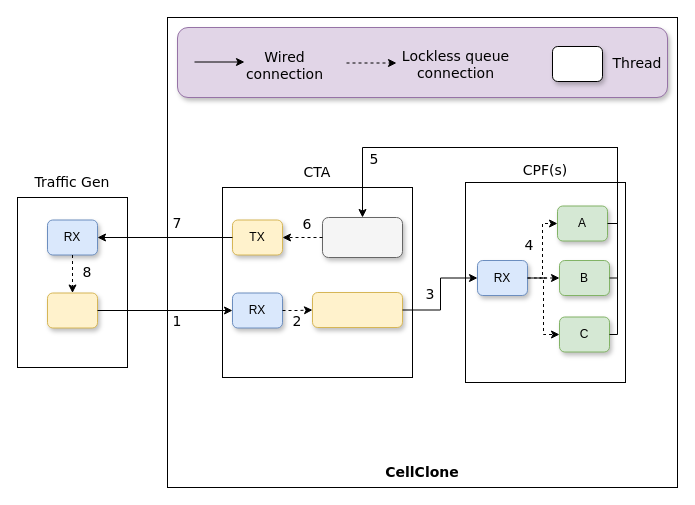
Image size: 695x505. Some labels were removed from this diagram. Here are the shapes that lost their labels. From the top down, the centre of each, then its label:
[363,238]: Duplicate filteration
[73,311]: TX Worker
[358,311]: CTA_CPF_TX1
